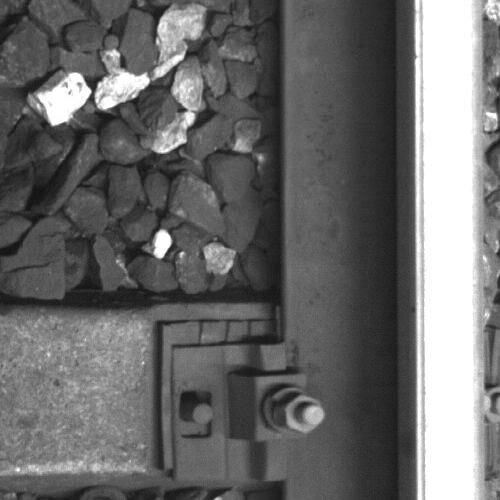hole_square: (173, 384, 220, 448)
kb_defect2: (172, 343, 326, 483)
nut: (269, 389, 329, 433)
rail: (413, 1, 483, 500)
tie_concr: (1, 303, 282, 473)
